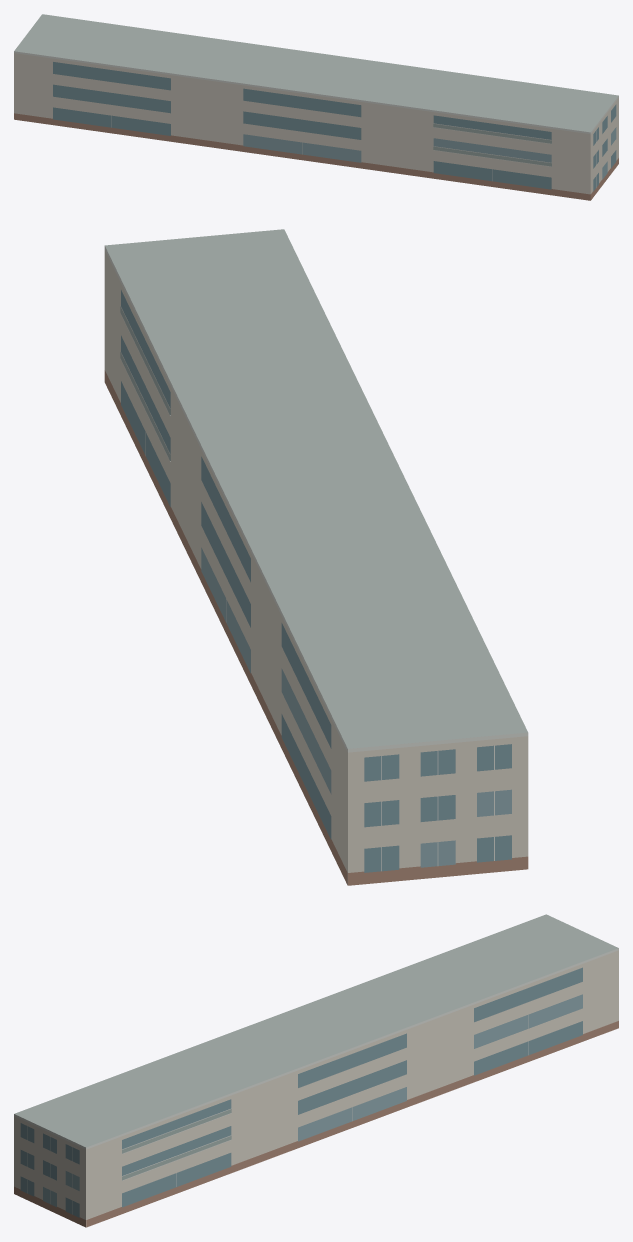
File: survey-upis-33035644.glb
The picture shows the model from 3 angles, top to bottom: view 1: azimuth 30°, elevation 25°; view 2: azimuth 150°, elevation 25°; view 3: azimuth 270°, elevation 25°; orthographic projection. The views are drawn at different scales.
Parts seen in each view (by area): view 1: survey-upis-33035644.tmp; view 2: survey-upis-33035644.tmp; view 3: survey-upis-33035644.tmp.
Boxes of the visible parts, bbox=[...] form: survey-upis-33035644.tmp: bbox=[14, 14, 618, 200]; survey-upis-33035644.tmp: bbox=[104, 229, 528, 885]; survey-upis-33035644.tmp: bbox=[14, 914, 618, 1227].
Size of the model in its own units: 57.17 by 9.15 by 62.65.
